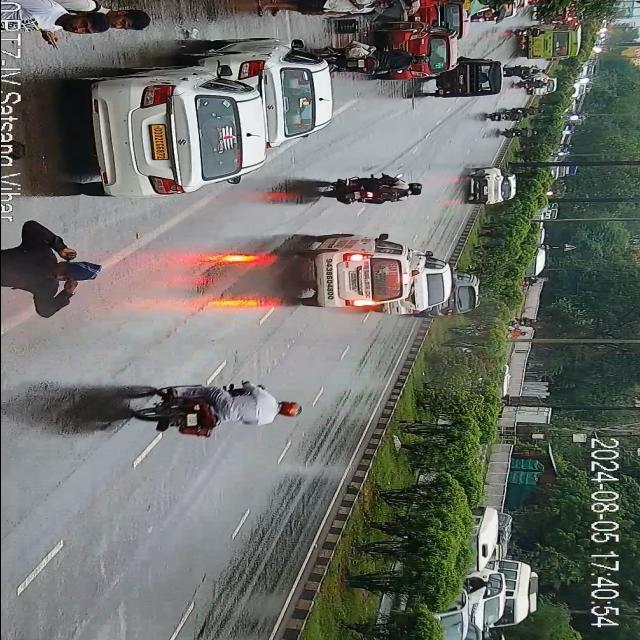2-wheelers: (142, 376, 303, 446), (318, 169, 422, 211), (338, 44, 428, 74), (412, 282, 478, 322), (487, 108, 533, 121), (508, 64, 544, 80), (504, 316, 538, 328)
auto: (439, 58, 504, 104)
bus: (524, 23, 582, 65)
car: (88, 64, 270, 196), (216, 45, 335, 148), (292, 230, 408, 312), (392, 20, 460, 84), (458, 508, 498, 572), (464, 572, 506, 630), (426, 594, 476, 640), (408, 255, 448, 312), (468, 166, 514, 210), (514, 248, 546, 282), (528, 77, 556, 98), (494, 128, 538, 140)
pedestrian: (0, 226, 107, 302), (0, 0, 133, 46), (256, 0, 394, 20)
